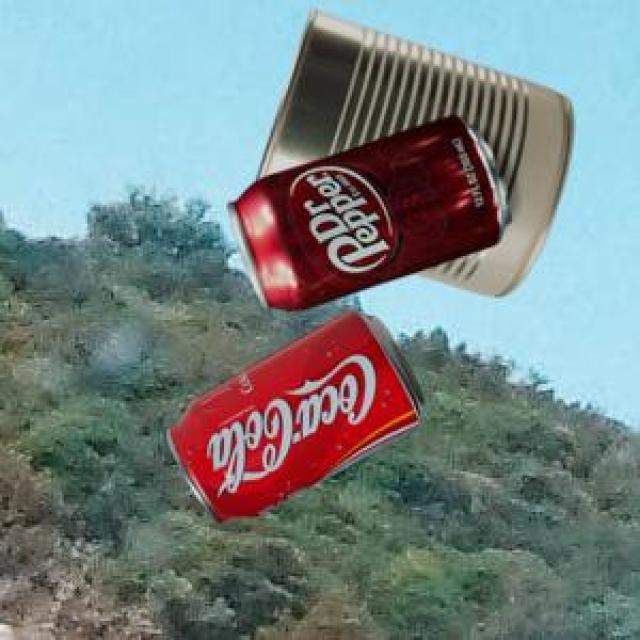Can: (253, 5, 571, 293), (225, 112, 509, 306), (163, 306, 419, 519)
